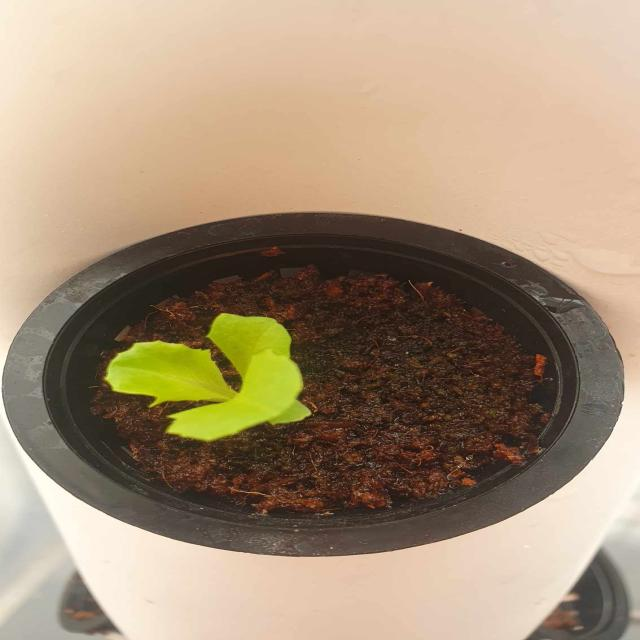Lettuce-Not-Ready-to-Harvest: (80, 298, 332, 466)
